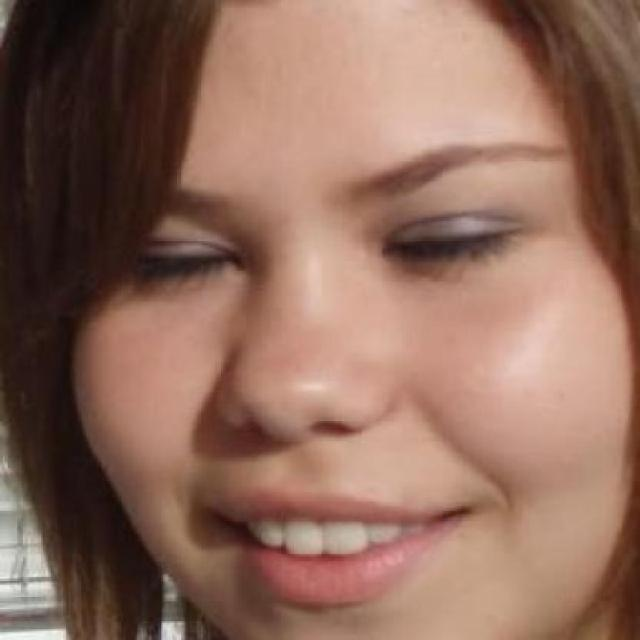drowsy: (381, 208, 525, 284), (135, 236, 240, 290)
